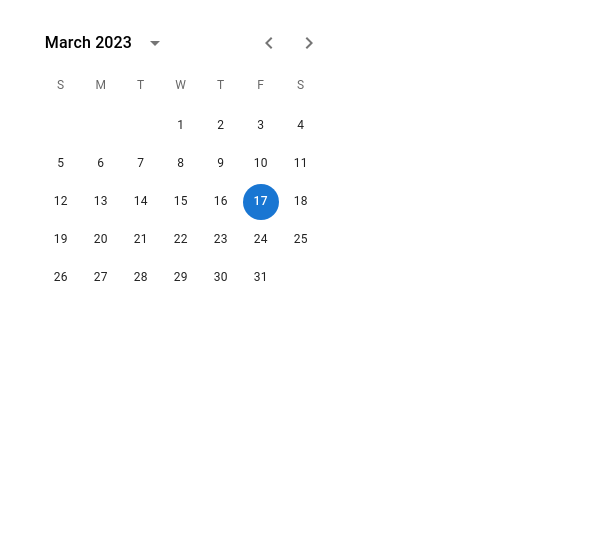
handle date clicked and show list › add name to favourite
Click the cell "15". click: (181, 202)
box: x1=163 y1=184 x2=199 y2=220
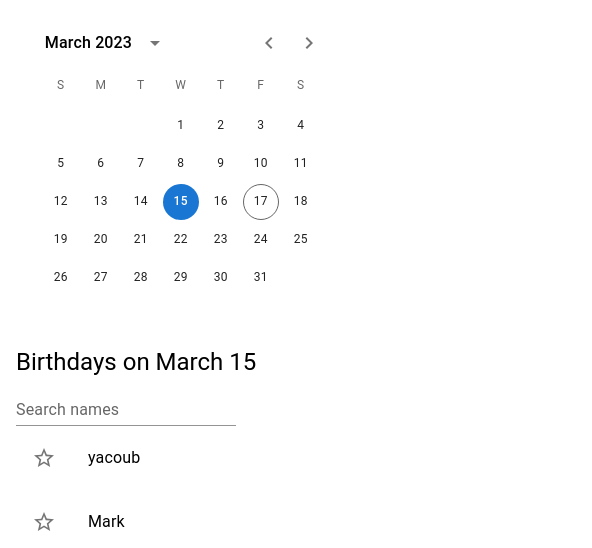
Click the icon with test id "icon-button" next to "yacoub". click: (44, 458)
box: x1=32 y1=446 x2=56 y2=470
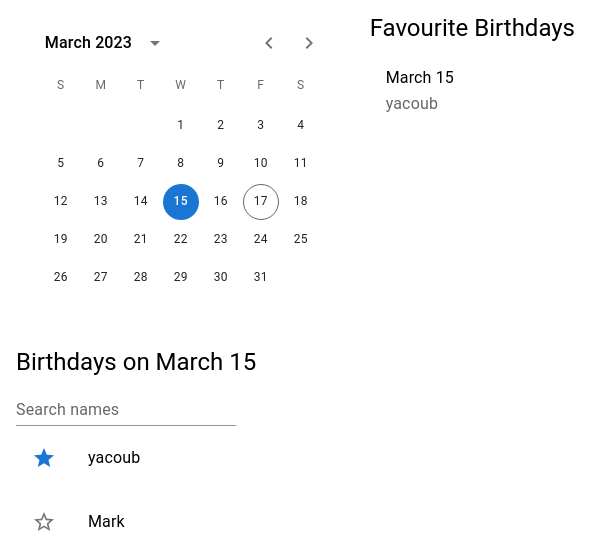
Expected: the text "Mark" is shown, x1=88 y1=512 x2=125 y2=531
Expected: the heading "Favourite Birthdays" is shown, x1=370 y1=14 x2=575 y2=42
